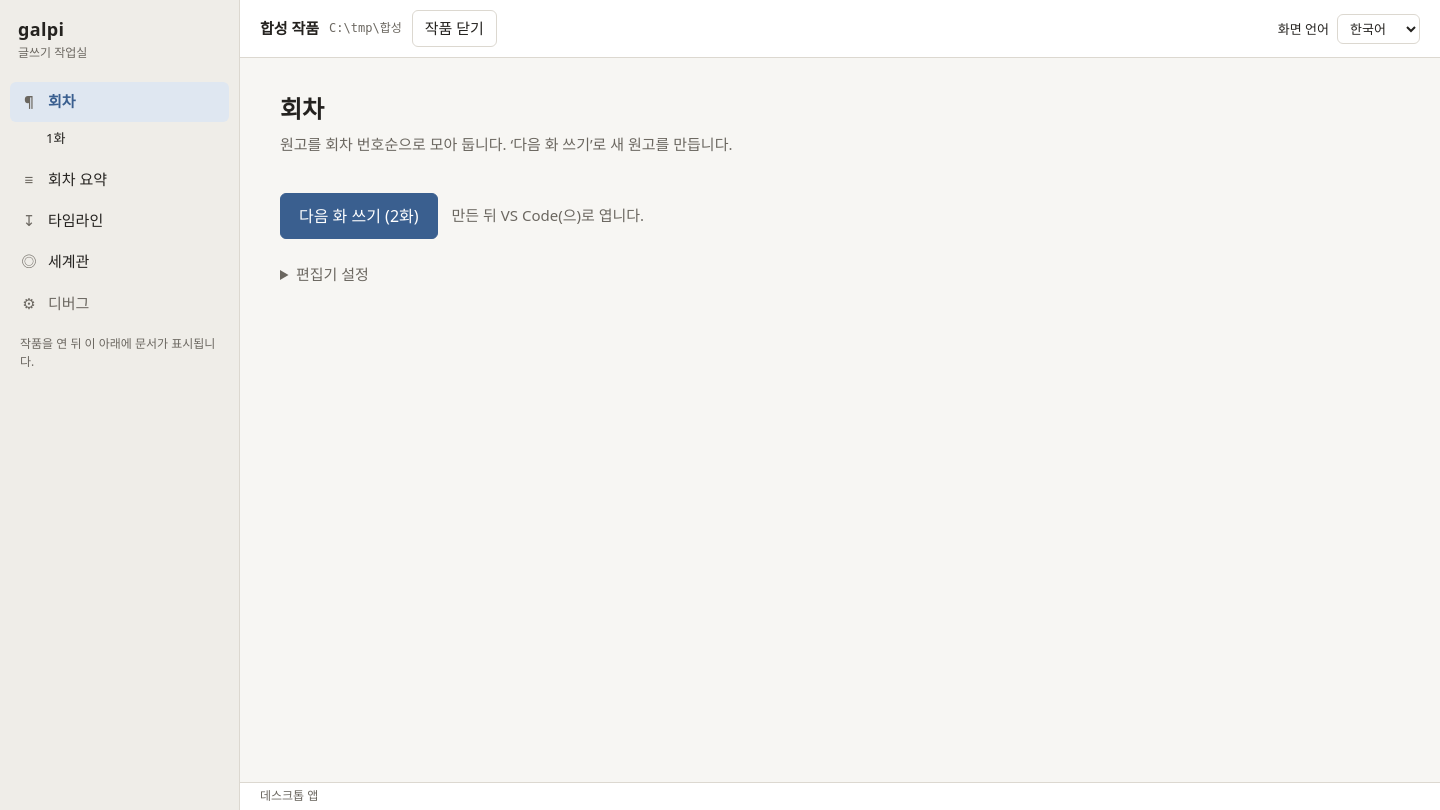
Test case: session 04 debug tools › disables the tools on a work that is not a sample
Click the button "1화" at (134, 138), box [38, 124, 229, 152]
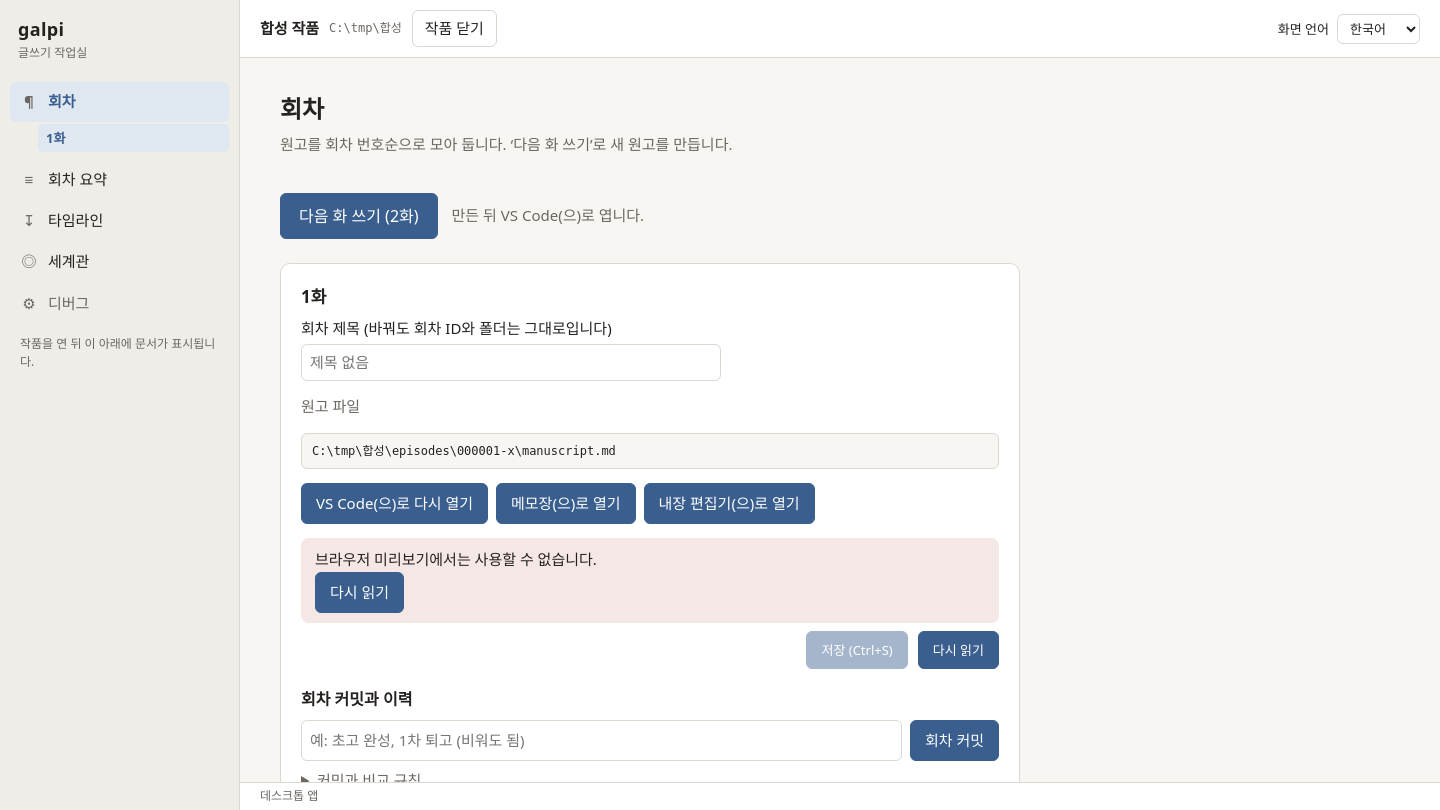
Click the button "⚙ 디버그" at (120, 303), box [10, 284, 229, 323]
(page scrolled)
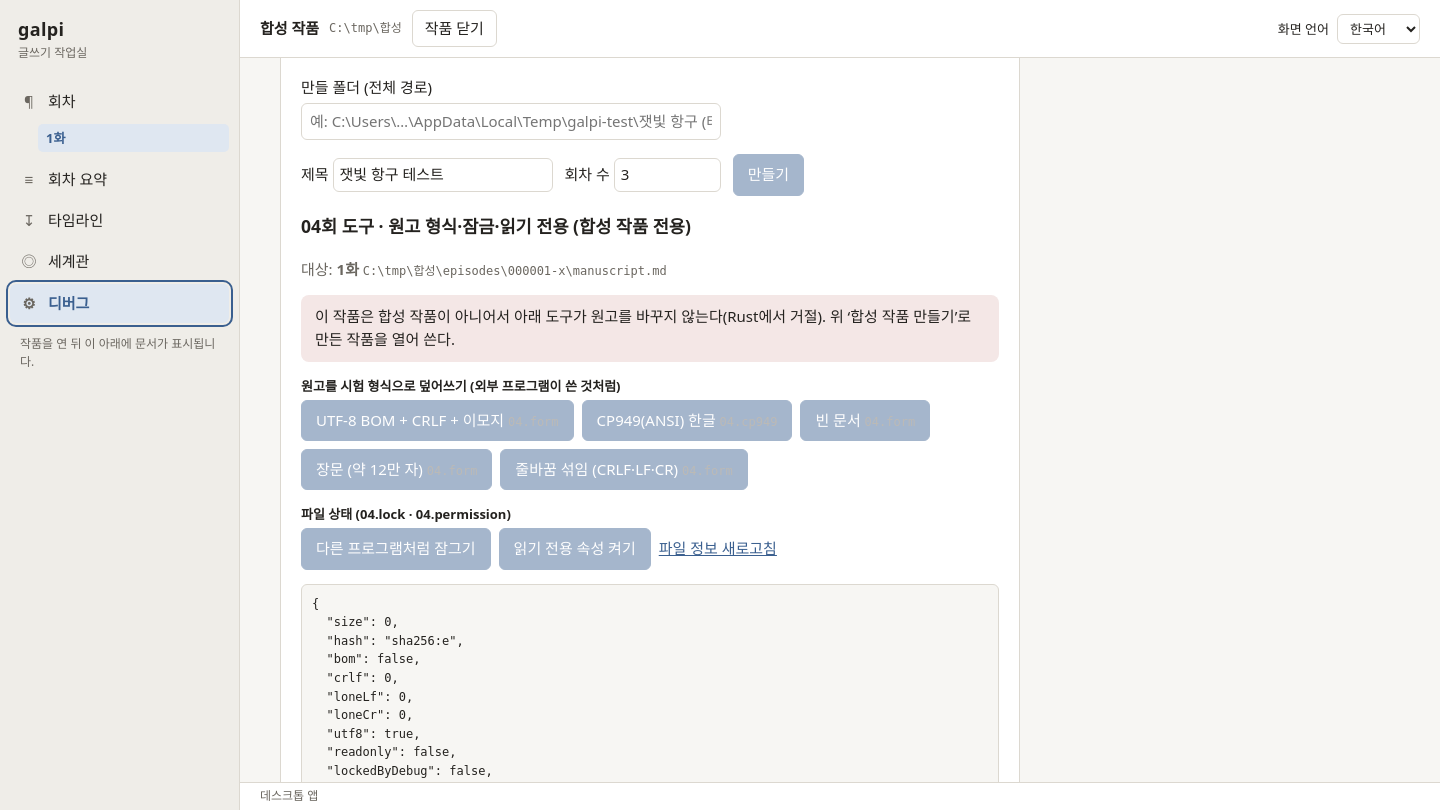
expect the text "이 작품은 합성 작품이 아니어서 아래 도구가 원고를 바꾸지 않는다(Rust에서 거절). 위 ‘합성 작품 만들기’로 만든 작품을 열어 쓴다." is shown: met, box [301, 295, 999, 362]
expect the button "CP949(ANSI) 한글 04.cp949" is disabled: met, box [582, 400, 792, 441]
